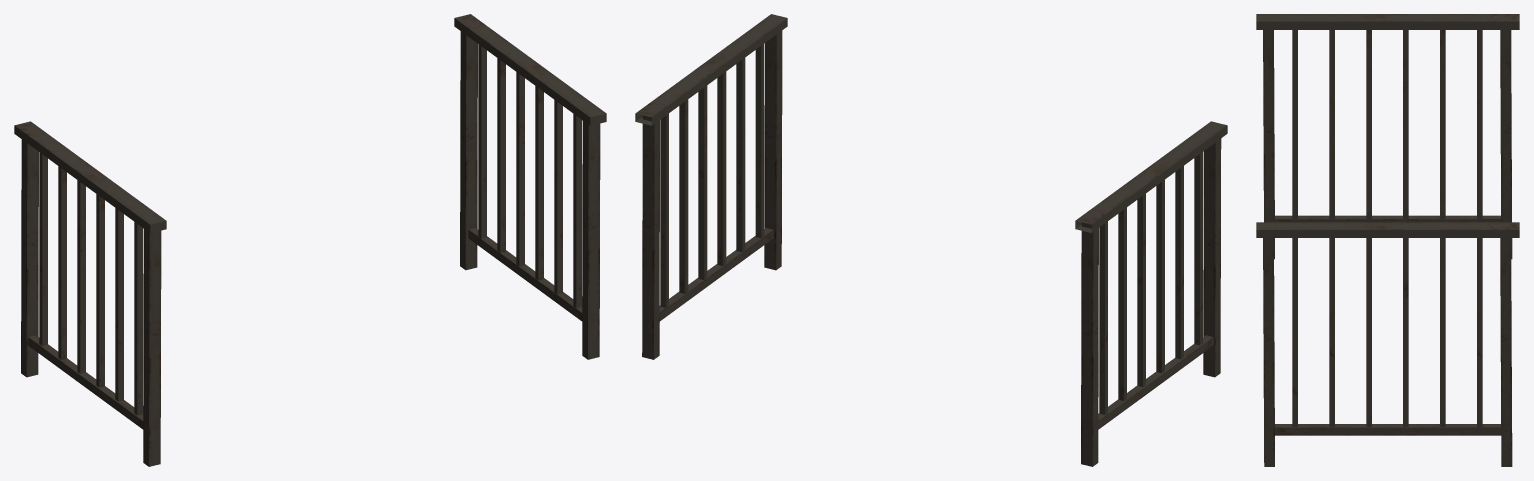
File: Stairs_Rails_Metal_Straight_1.glb
3 renders of one model, left to right at view 1: azimuth 30°, elevation 25°; view 2: azimuth 150°, elevation 25°; view 3: azimuth 270°, elevation 25°, orthographic. The views are drawn at different scales.
Parts seen in each view (by area): view 1: Stairs_Rails_Metal_Straight_1; view 2: Stairs_Rails_Metal_Straight_1; view 3: Stairs_Rails_Metal_Straight_1.
Part boxes in pixels (box(x1,y1,x2,y2)): Stairs_Rails_Metal_Straight_1: box(14, 14, 606, 466); Stairs_Rails_Metal_Straight_1: box(635, 14, 1227, 466); Stairs_Rails_Metal_Straight_1: box(1256, 14, 1519, 466).
Size of the model in its own units: 1.94 by 0.9981 by 1.
Materials: 1 (1 with a texture image).
